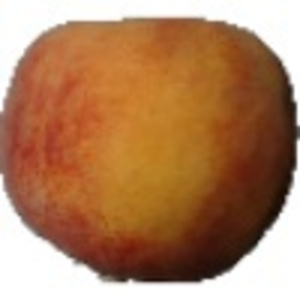pêssego: (1, 14, 300, 287)
